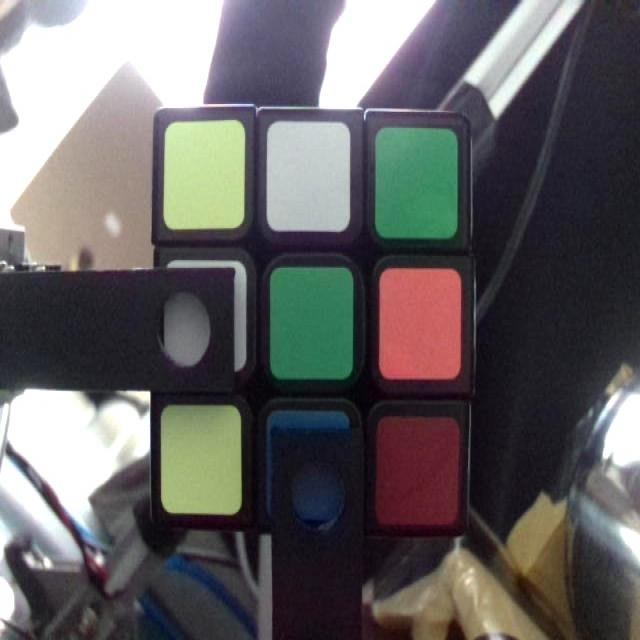b: (266, 415, 351, 514)
g: (270, 271, 356, 380), (377, 130, 458, 238)
o: (382, 270, 460, 380)
r: (380, 421, 460, 526)
w: (268, 117, 351, 231), (164, 260, 248, 370)
y: (163, 116, 246, 230), (164, 403, 242, 511)
